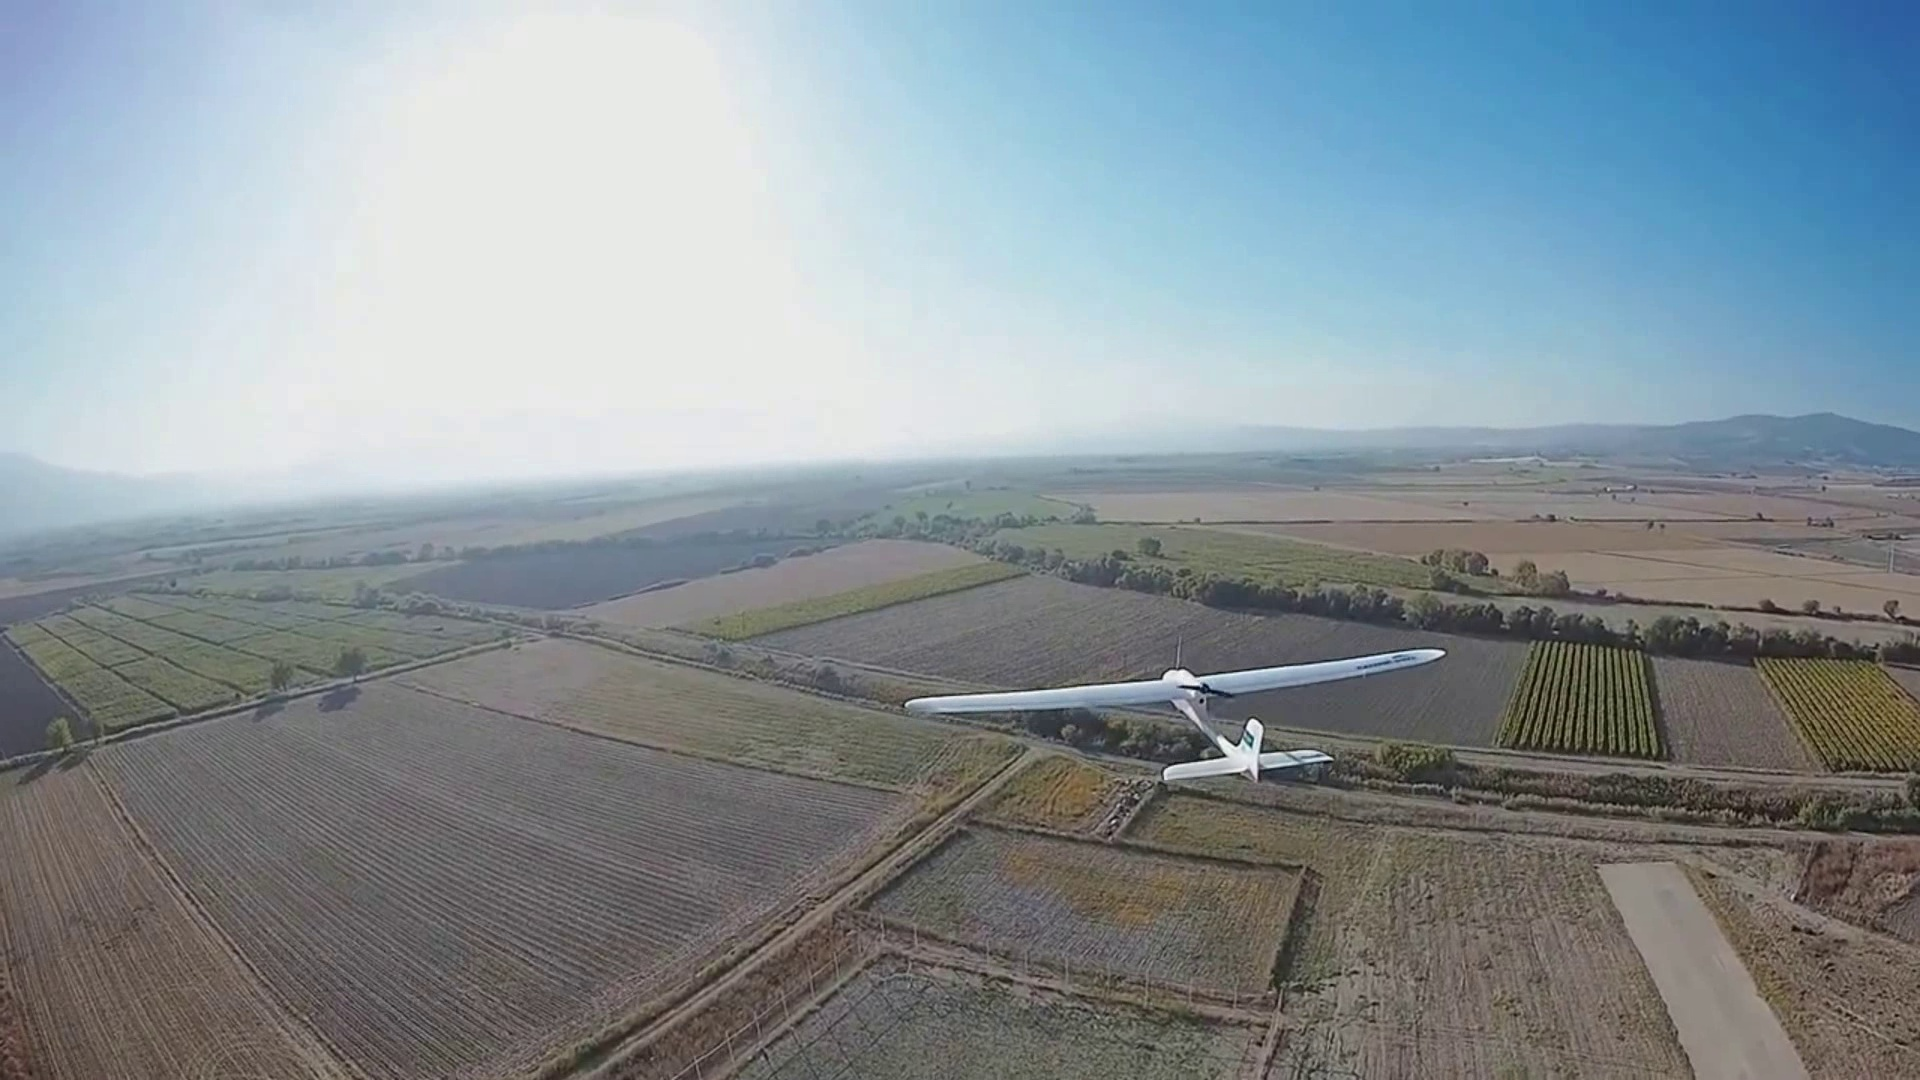airplane: (899, 642, 1448, 786)
